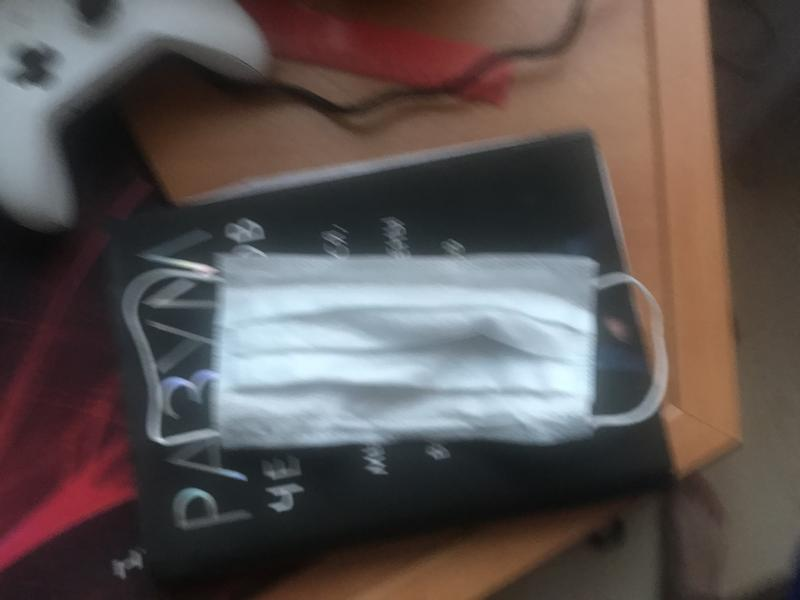medical_mask: (124, 256, 667, 445)
